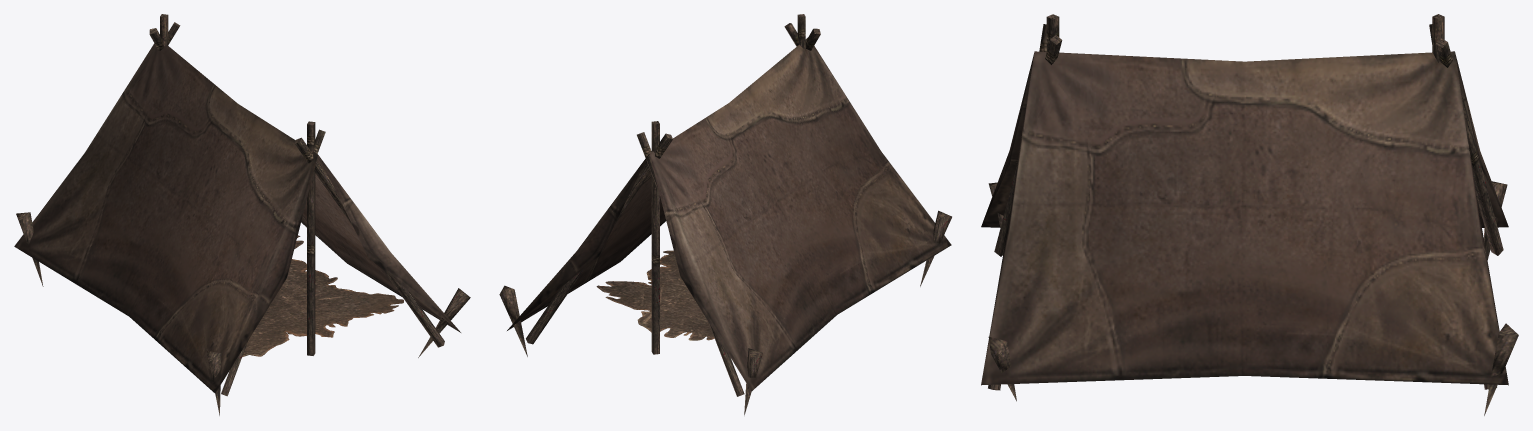
File: Camp01_a.FBX
3 views of the same model, side by side, from view 1: azimuth 30°, elevation 25°; view 2: azimuth 150°, elevation 25°; view 3: azimuth 270°, elevation 25° (orthographic). The views are drawn at different scales.
Parts seen in each view (by area): view 1: Camp01_a; view 2: Camp01_a; view 3: Camp01_a.
Part boxes in pixels (box(x1,y1,x2,y2)): Camp01_a: box(14, 14, 470, 415); Camp01_a: box(499, 14, 951, 415); Camp01_a: box(981, 14, 1518, 415).
Bounding box in the file's own units: 218 × 204 × 294.
